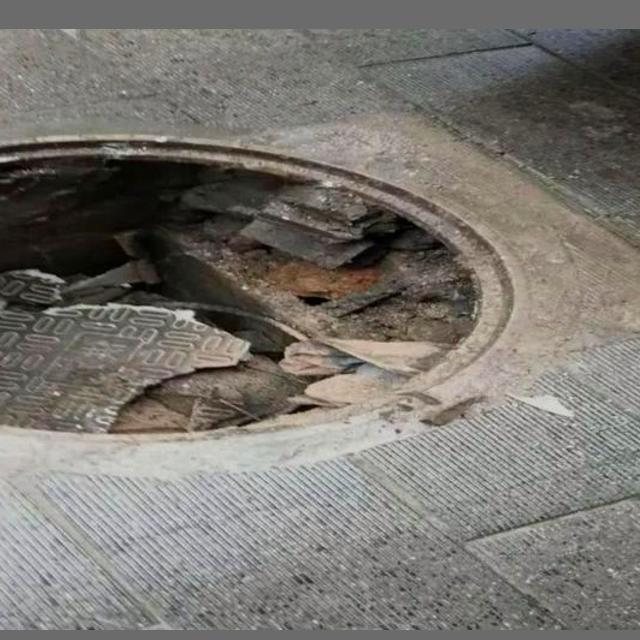broke: (0, 123, 521, 471)
